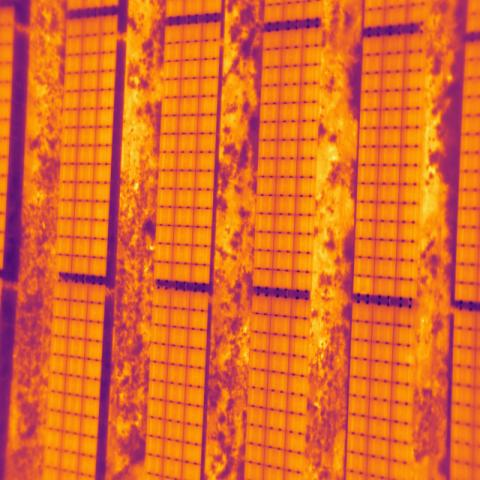fault: (352, 275, 374, 296)
